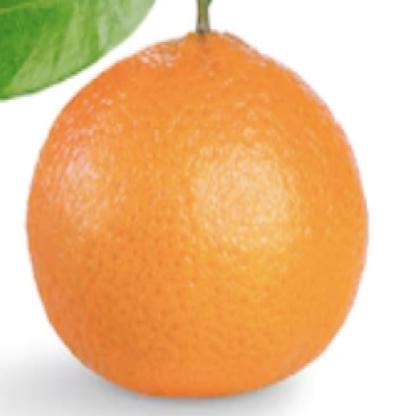fresh: (23, 29, 370, 398)
